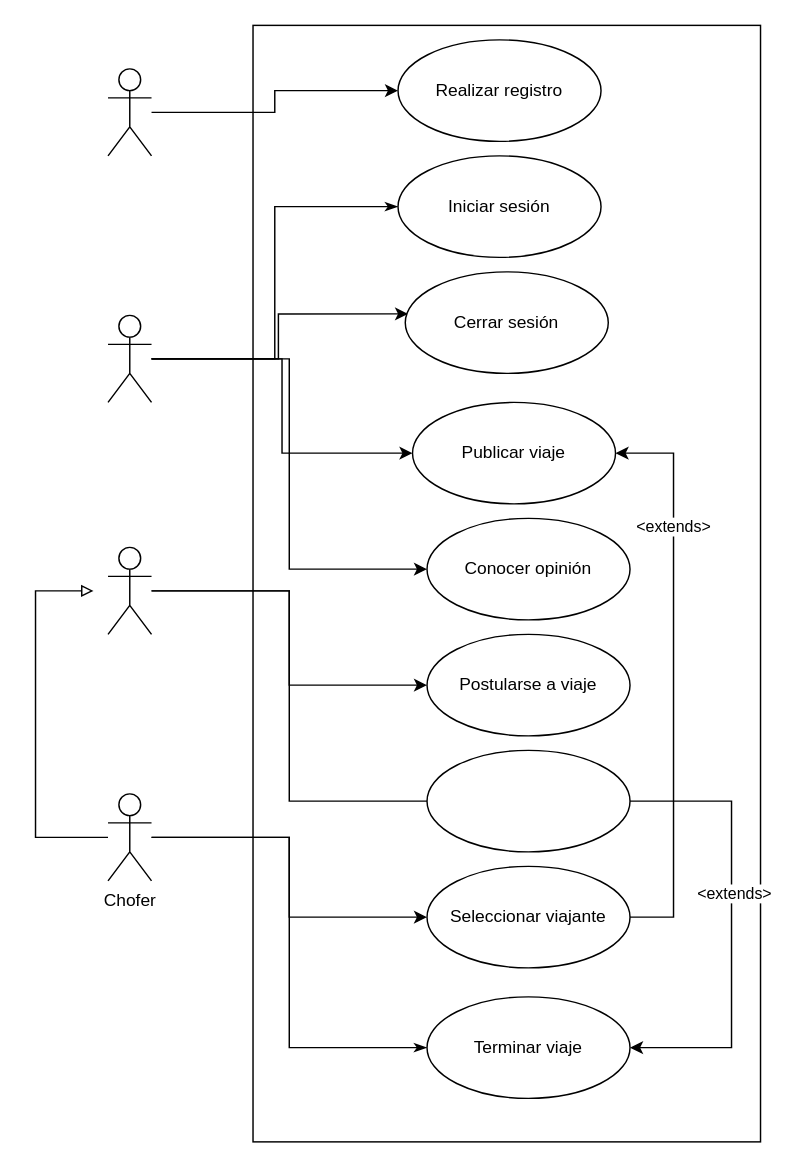
This 796x1167 diagram has some shape labels left out. Here are the shapes that lost their labels. From the top down, the centre of each, then its label:
At point (129, 111): "Persona no registrada".
At point (129, 358): "Persona registrada".
At point (129, 590): "Viajante".
At point (528, 800): "Calificar viajante".
